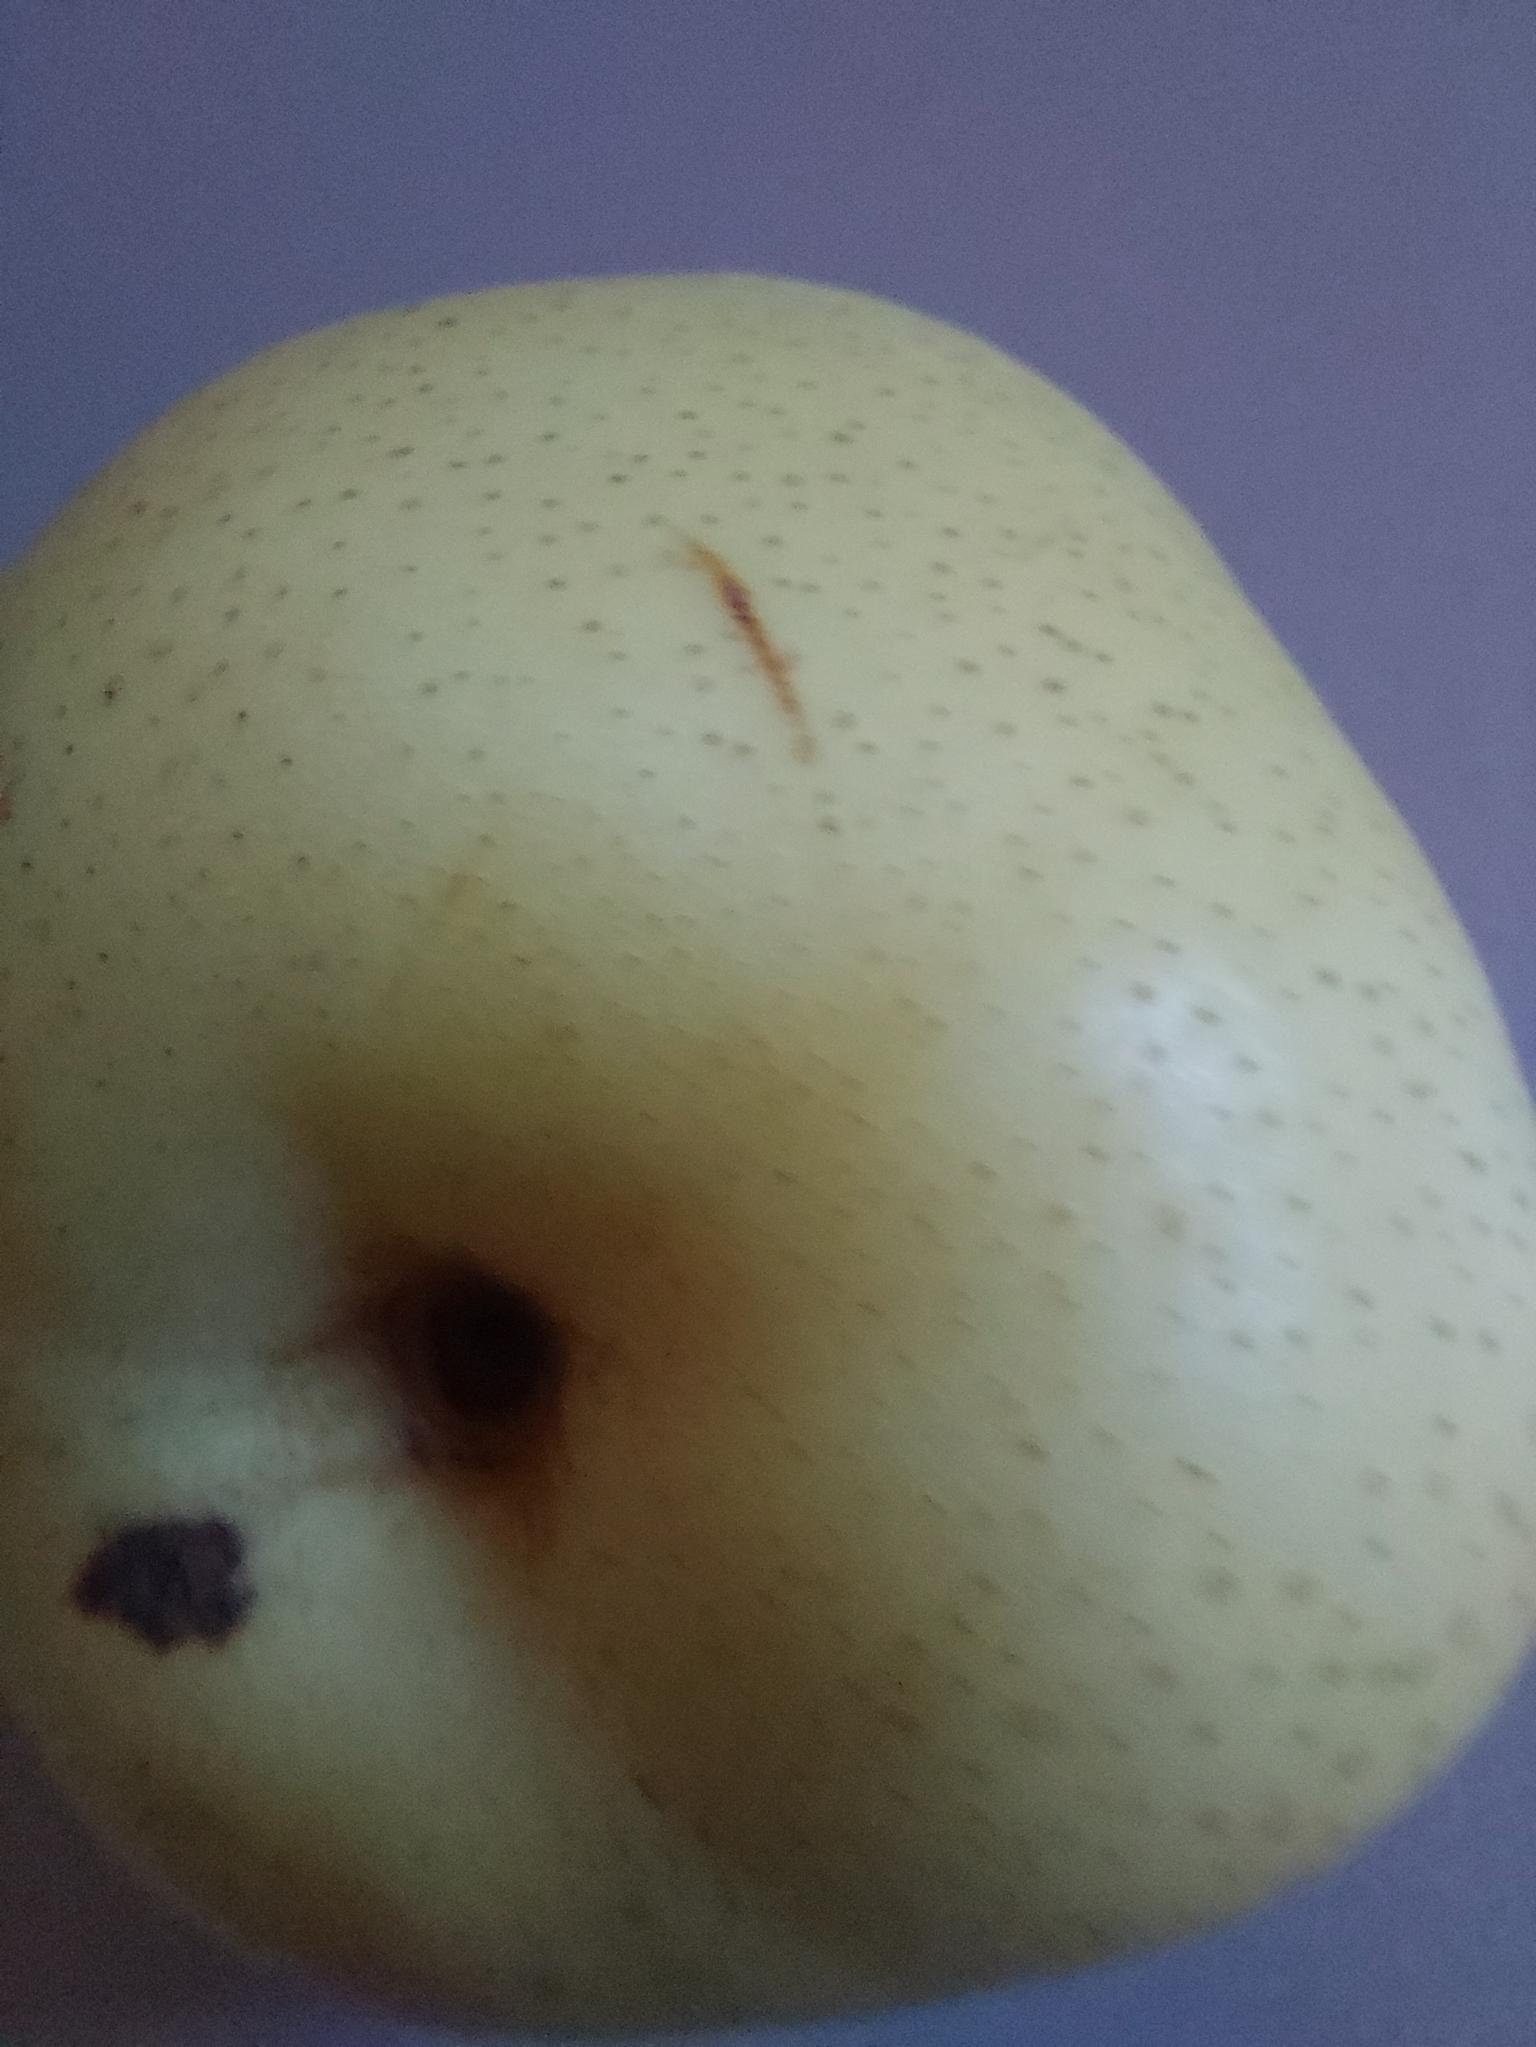Good Pear: (0, 252, 1536, 2037)
